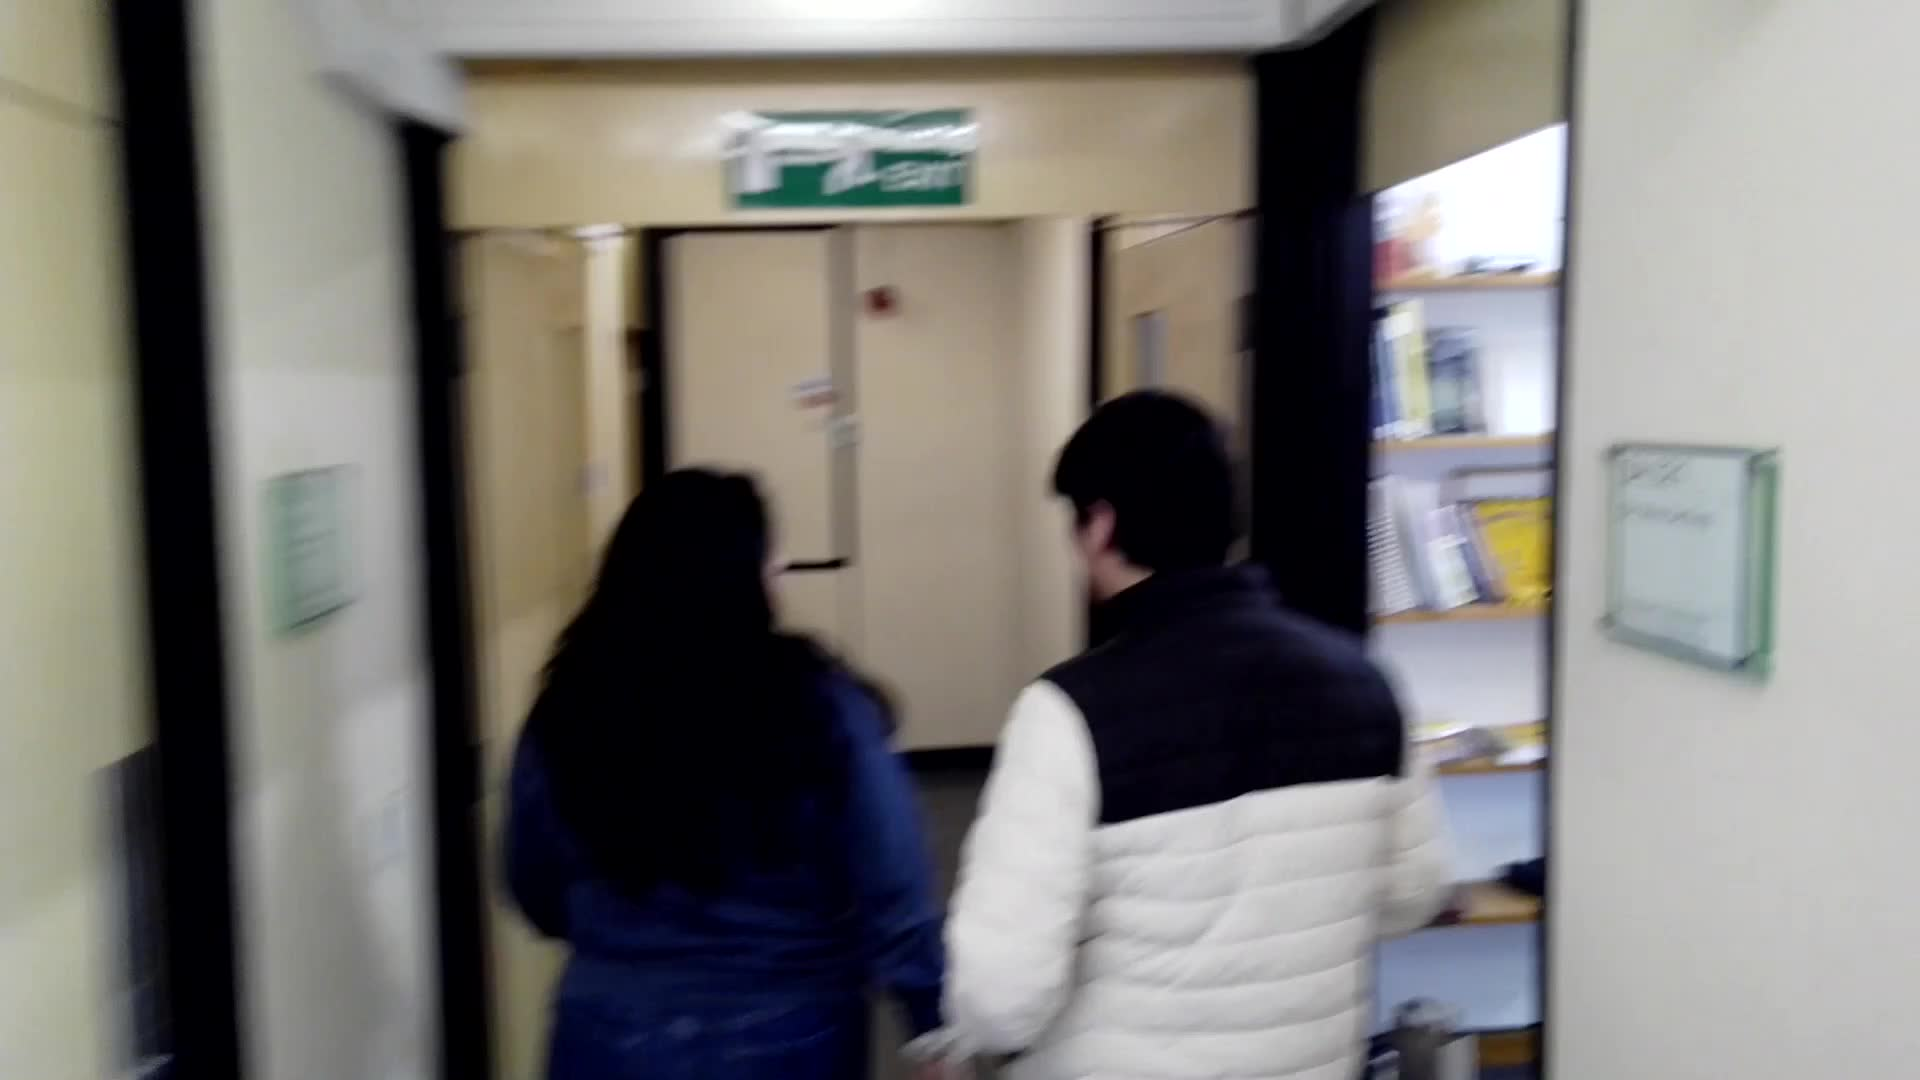Person: (988, 389, 1422, 1080), (521, 451, 933, 1080)
